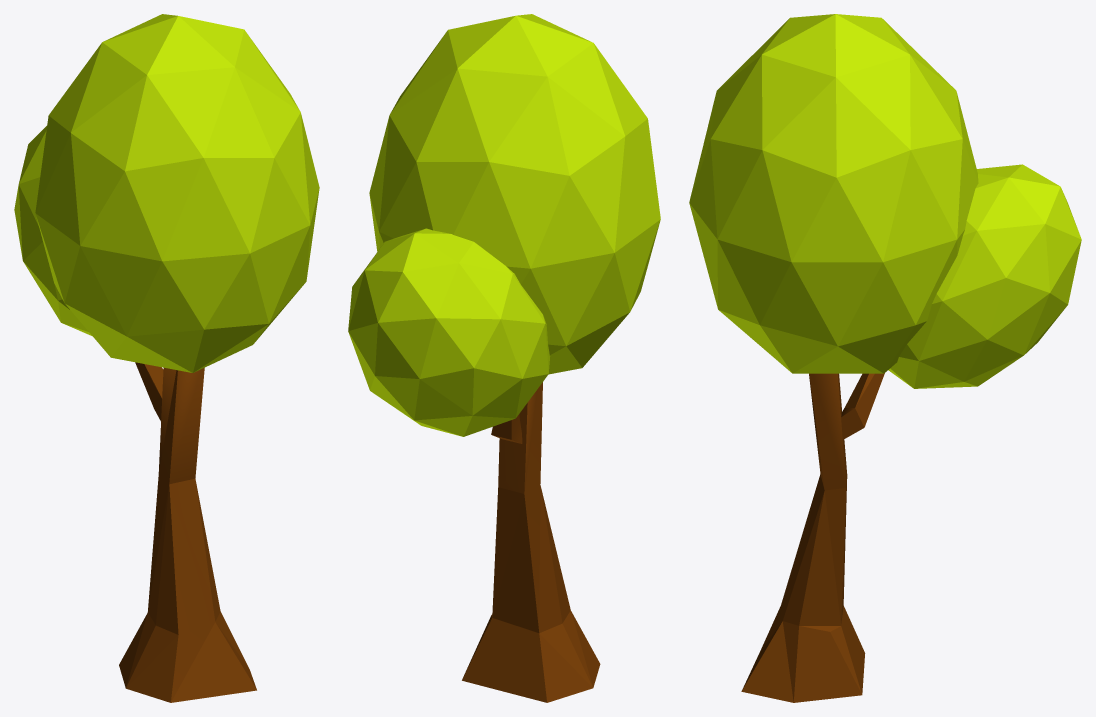
The model's file is m_new_tree2.fbx.
The picture shows the model from 3 angles, left to right: view 1: azimuth 30°, elevation 25°; view 2: azimuth 150°, elevation 25°; view 3: azimuth 270°, elevation 25°; orthographic projection. The views are drawn at different scales.
Visible parts, largest first — view 1: ORANGA_TREE_1.001; view 2: ORANGA_TREE_1.001; view 3: ORANGA_TREE_1.001.
Part boxes in pixels (x1,y1,x2,y2): ORANGA_TREE_1.001: (14,14,319,702); ORANGA_TREE_1.001: (348,14,660,702); ORANGA_TREE_1.001: (689,14,1081,702).
Bounding box in the file's own units: 110 × 287 × 154.
